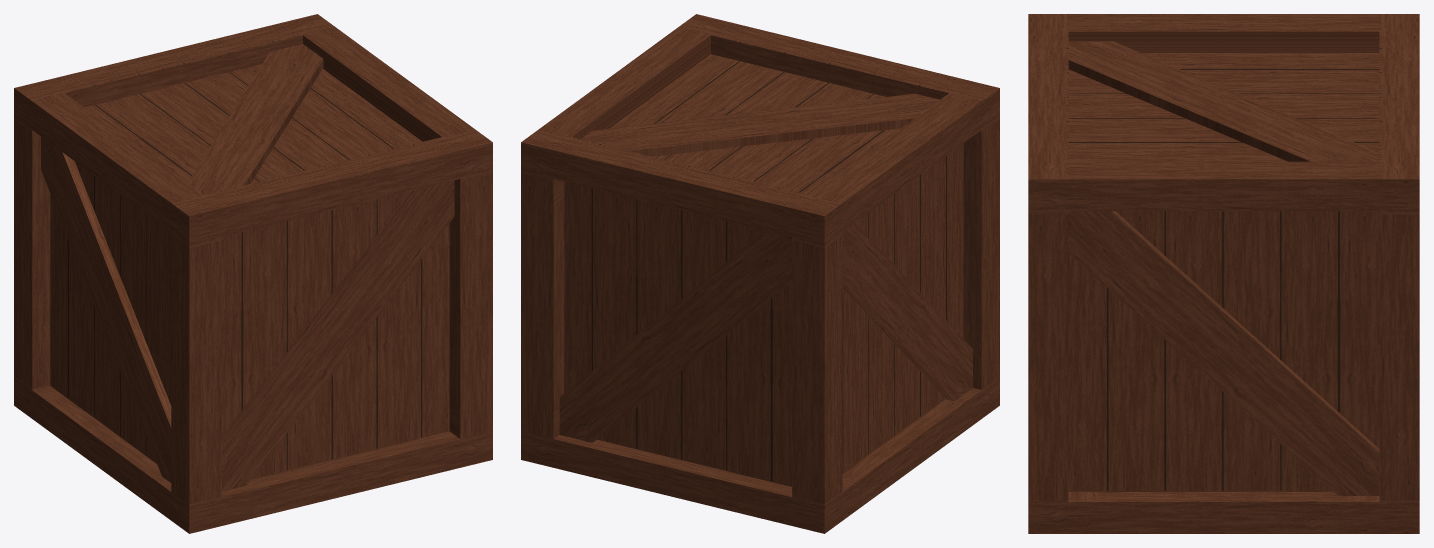
File: Crate.FBX
3 renders of one model, left to right at view 1: azimuth 30°, elevation 25°; view 2: azimuth 150°, elevation 25°; view 3: azimuth 270°, elevation 25°, orthographic. The views are drawn at different scales.
Parts seen in each view (by area): view 1: Crate; view 2: Crate; view 3: Crate.
Boxes of the visible parts, box(x1,y1,x2,y2) form: Crate: box(14, 14, 492, 533); Crate: box(521, 14, 999, 533); Crate: box(1028, 14, 1419, 533).
Size of the model in its own units: 29 by 29 by 29.
